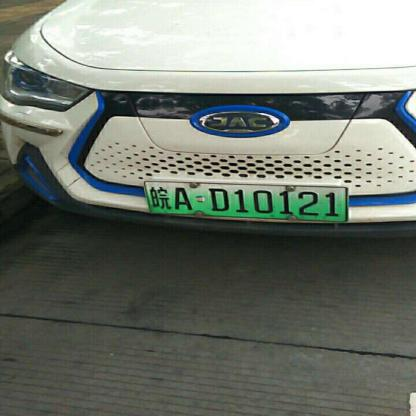lp: (146, 181, 346, 221)
